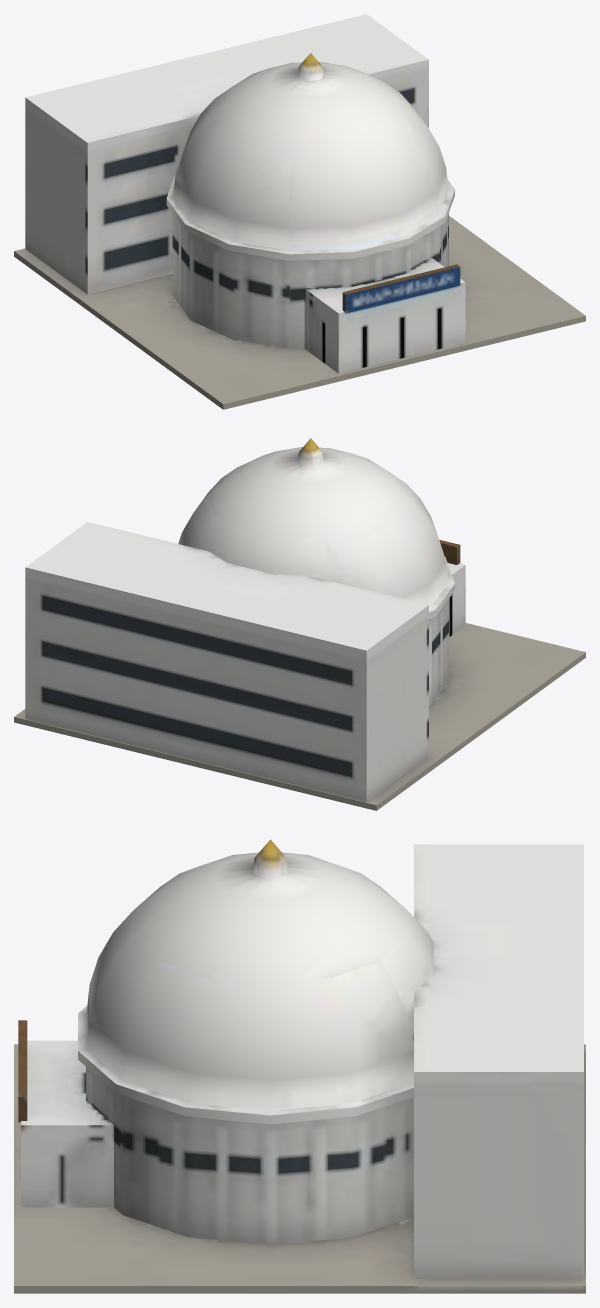
The model's file is birla_planetarium.glb.
The picture shows the model from 3 angles, top to bottom: view 1: azimuth 30°, elevation 25°; view 2: azimuth 150°, elevation 25°; view 3: azimuth 270°, elevation 25°; orthographic projection. The views are drawn at different scales.
Visible parts, largest first — view 1: birla_planetarium_body; view 2: birla_planetarium_body; view 3: birla_planetarium_body.
Part boxes in pixels (box(x1,y1,x2,y2)): birla_planetarium_body: box(14, 14, 585, 409); birla_planetarium_body: box(14, 438, 585, 810); birla_planetarium_body: box(14, 839, 585, 1293).
Bounding box in the file's own units: 58.2 × 37.45 × 58.2.
Materials: 1 (1 with a texture image).
